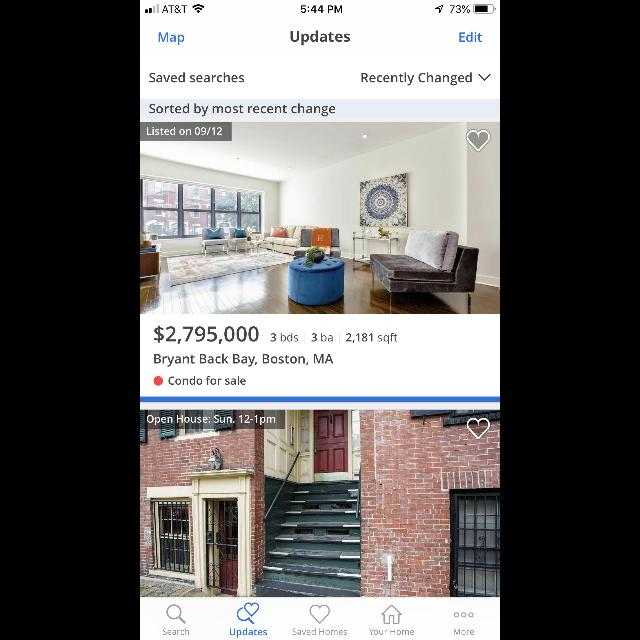icon: (466, 129, 490, 153), (466, 417, 490, 439), (237, 602, 260, 624), (167, 604, 187, 624), (310, 604, 330, 624), (382, 604, 402, 624), (454, 612, 474, 618), (478, 74, 490, 82)
image: (140, 122, 500, 314), (140, 409, 500, 597)
text: (149, 103, 335, 117), (154, 353, 333, 367), (154, 326, 260, 344), (362, 72, 472, 86), (147, 414, 275, 424), (150, 72, 244, 84), (290, 30, 350, 46), (146, 126, 224, 136), (346, 333, 398, 345), (168, 376, 246, 384), (292, 628, 348, 636), (230, 628, 268, 638), (159, 32, 185, 46), (370, 628, 414, 636), (271, 332, 299, 342), (460, 32, 482, 42), (311, 332, 333, 342), (162, 628, 190, 634), (454, 628, 474, 634)
uppertaskbar: (140, 0, 500, 14)
